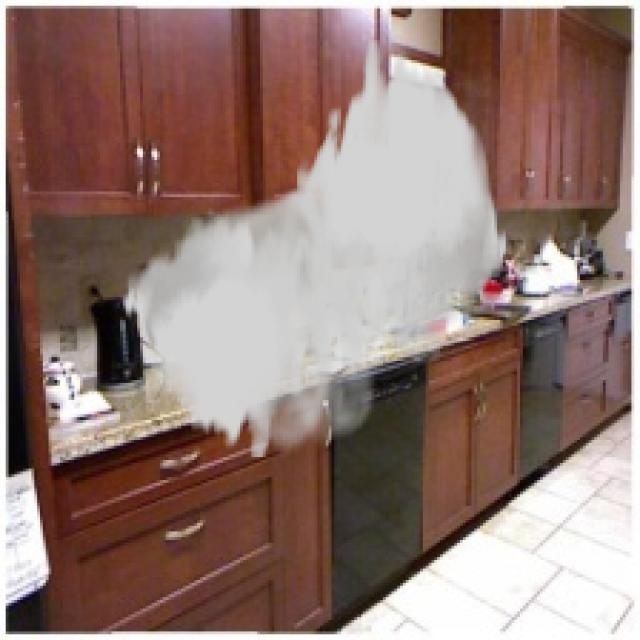smoke: (120, 40, 509, 460)
